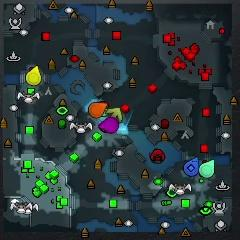p1: (184, 157, 199, 177)
p2: (199, 159, 215, 178)
p3: (99, 118, 119, 132)
p4: (26, 64, 41, 85)
p5: (89, 102, 107, 118)
x2: (107, 108, 122, 122)
